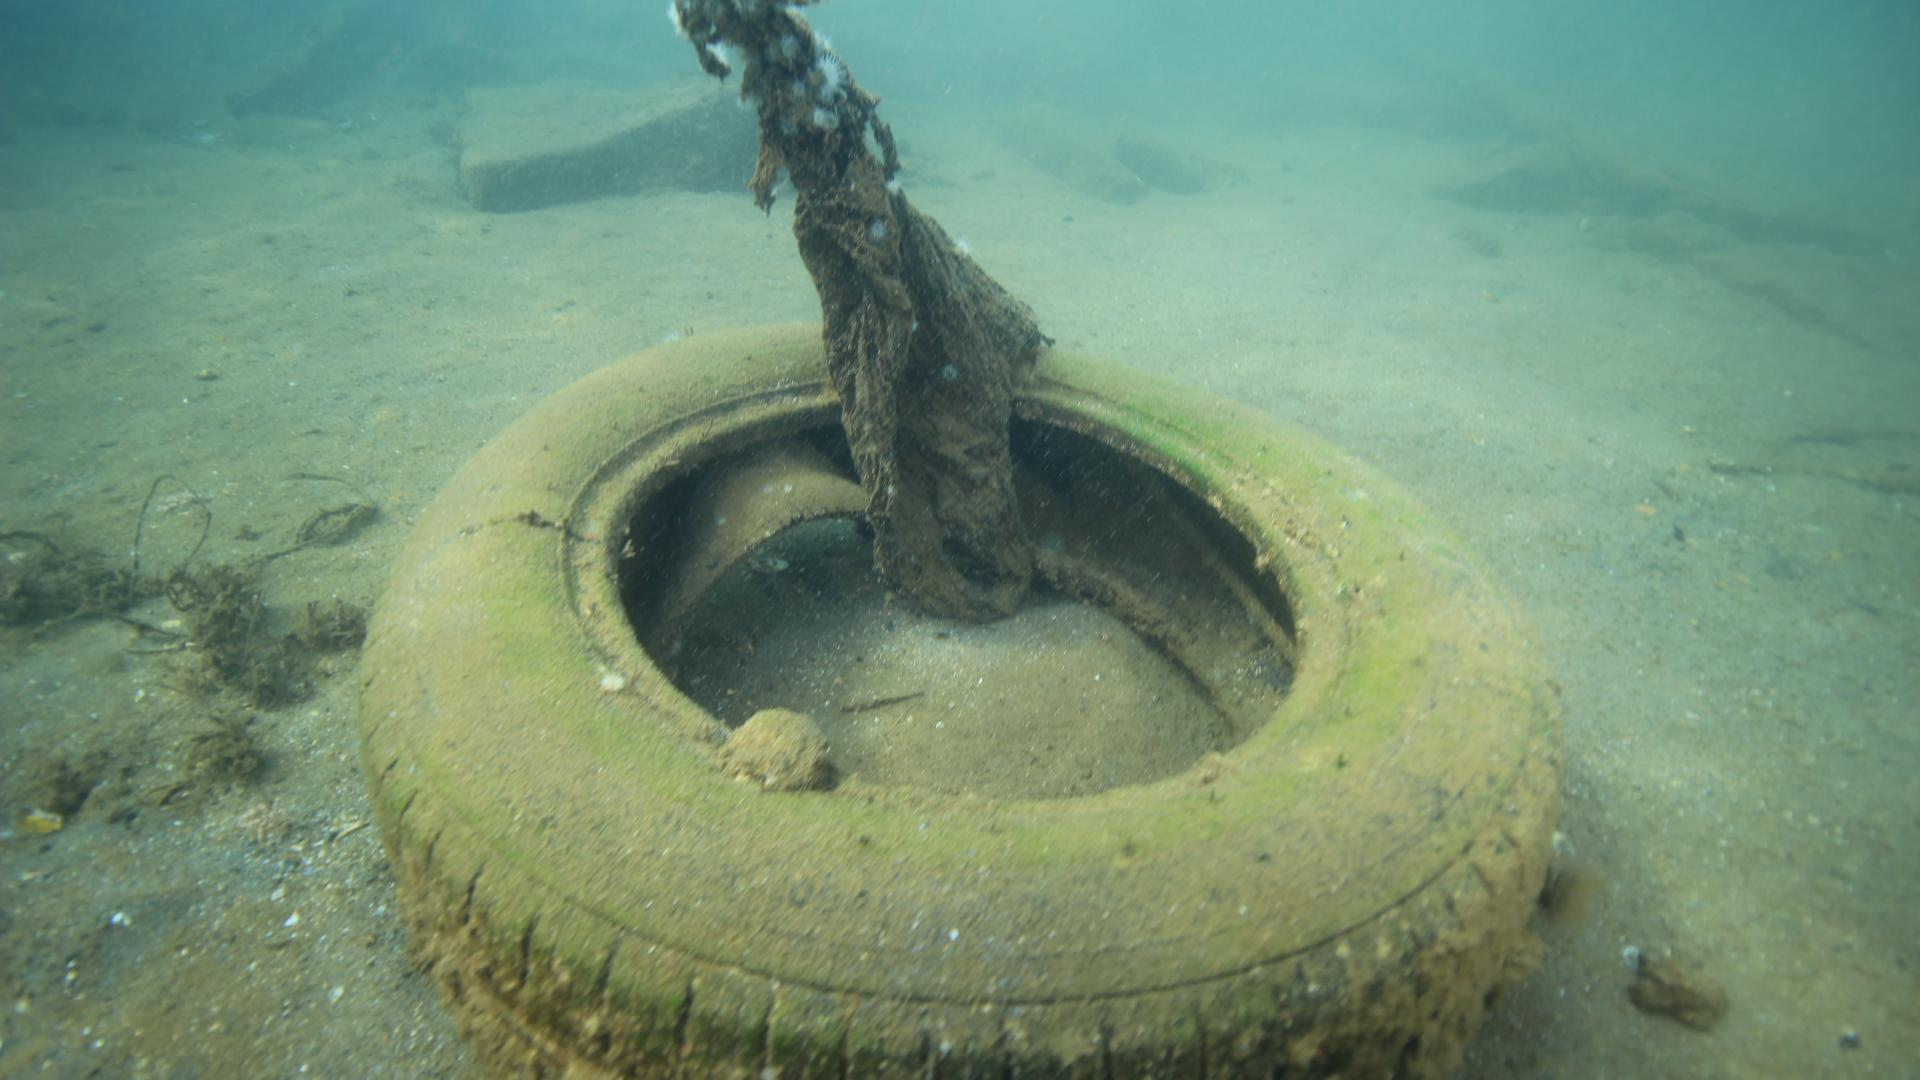tire: (363, 320, 1567, 1080)
